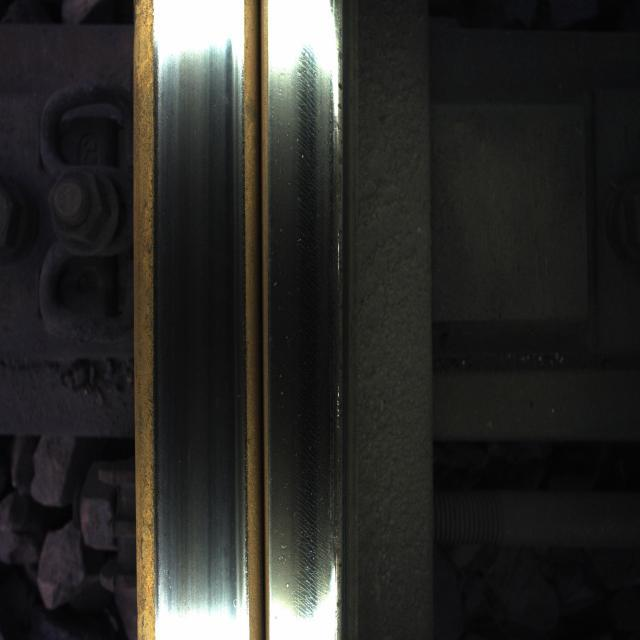break: (154, 43, 248, 616)
normal: (260, 31, 342, 615)
